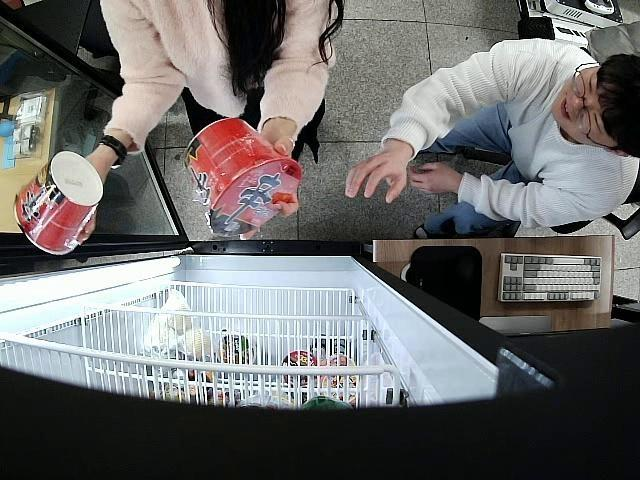01_ShinRamen_L: (186, 117, 303, 236), (13, 152, 102, 253)
